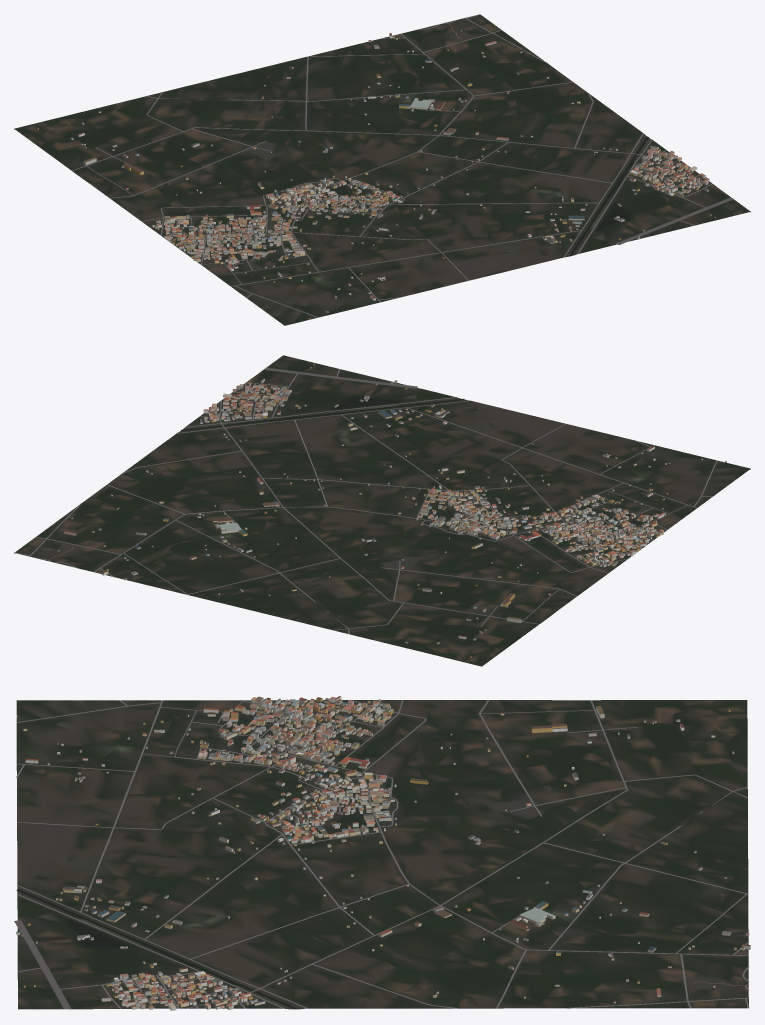
3 views of the same model, one above another, from view 1: azimuth 30°, elevation 25°; view 2: azimuth 150°, elevation 25°; view 3: azimuth 270°, elevation 25° (orthographic). The views are drawn at different scales.
Parts seen in each view (by area): view 1: ground, buildings, roads, water; view 2: ground, buildings, roads, water; view 3: ground, buildings, roads, water.
Boxes of the visible parts, <box> form: ground: <box>14,14,750,325</box>; buildings: <box>37,30,715,319</box>; roads: <box>72,14,733,317</box>; water: <box>565,136,648,256</box>; ground: <box>14,355,750,666</box>; buildings: <box>58,364,726,657</box>; roads: <box>14,367,717,633</box>; water: <box>181,386,464,430</box>; ground: <box>16,700,748,1009</box>; buildings: <box>16,696,750,1010</box>; roads: <box>14,700,749,1009</box>; water: <box>16,889,296,1009</box>.
Size of the model in its own units: 1415 by 17.66 by 1414.
